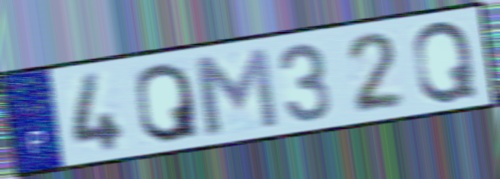2: (344, 30, 408, 116)
3: (277, 41, 333, 124)
4: (69, 68, 127, 155)
M: (188, 44, 282, 138)
Q: (410, 18, 480, 106), (133, 59, 202, 145)
